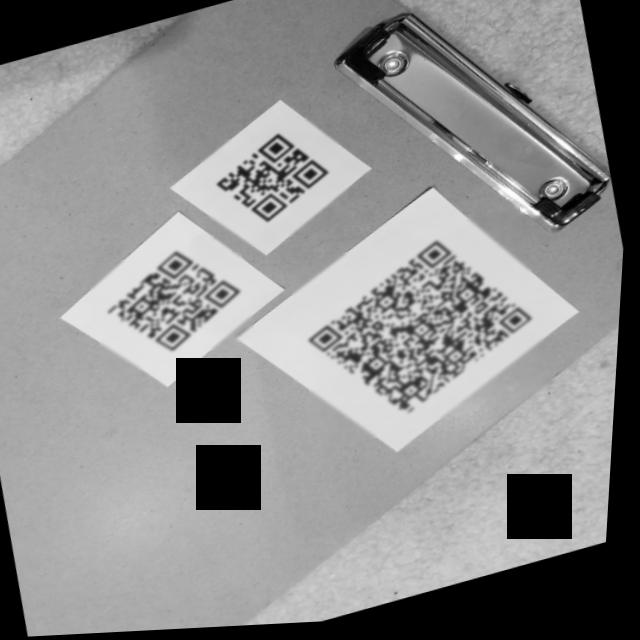QR_CODE: (283, 208, 565, 459), (85, 229, 265, 381), (195, 113, 360, 260)
